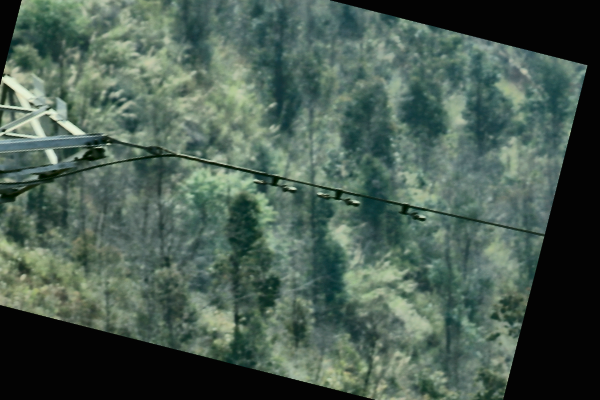damper: (250, 171, 298, 194), (313, 186, 360, 207)
damper_defect: (392, 200, 427, 222)
